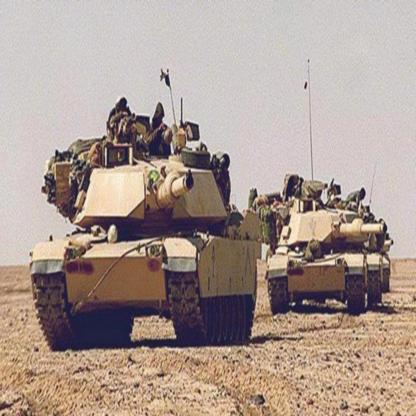Tank: (26, 106, 258, 366), (262, 197, 397, 329)
